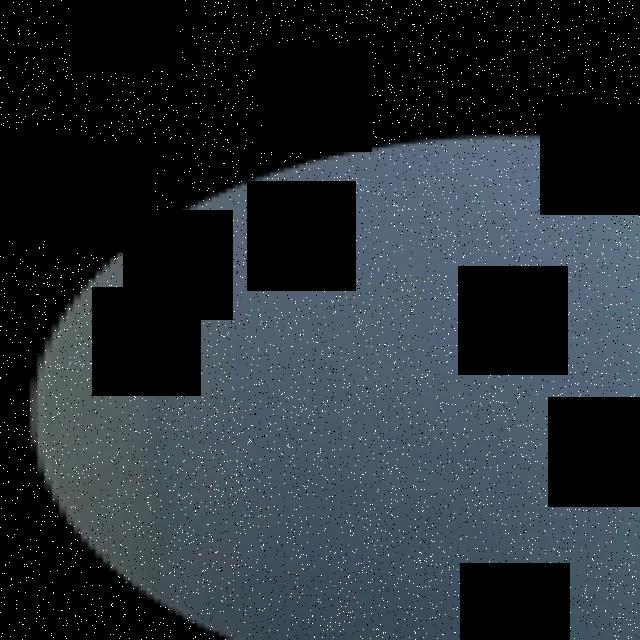Uranus: (29, 140, 640, 640)
